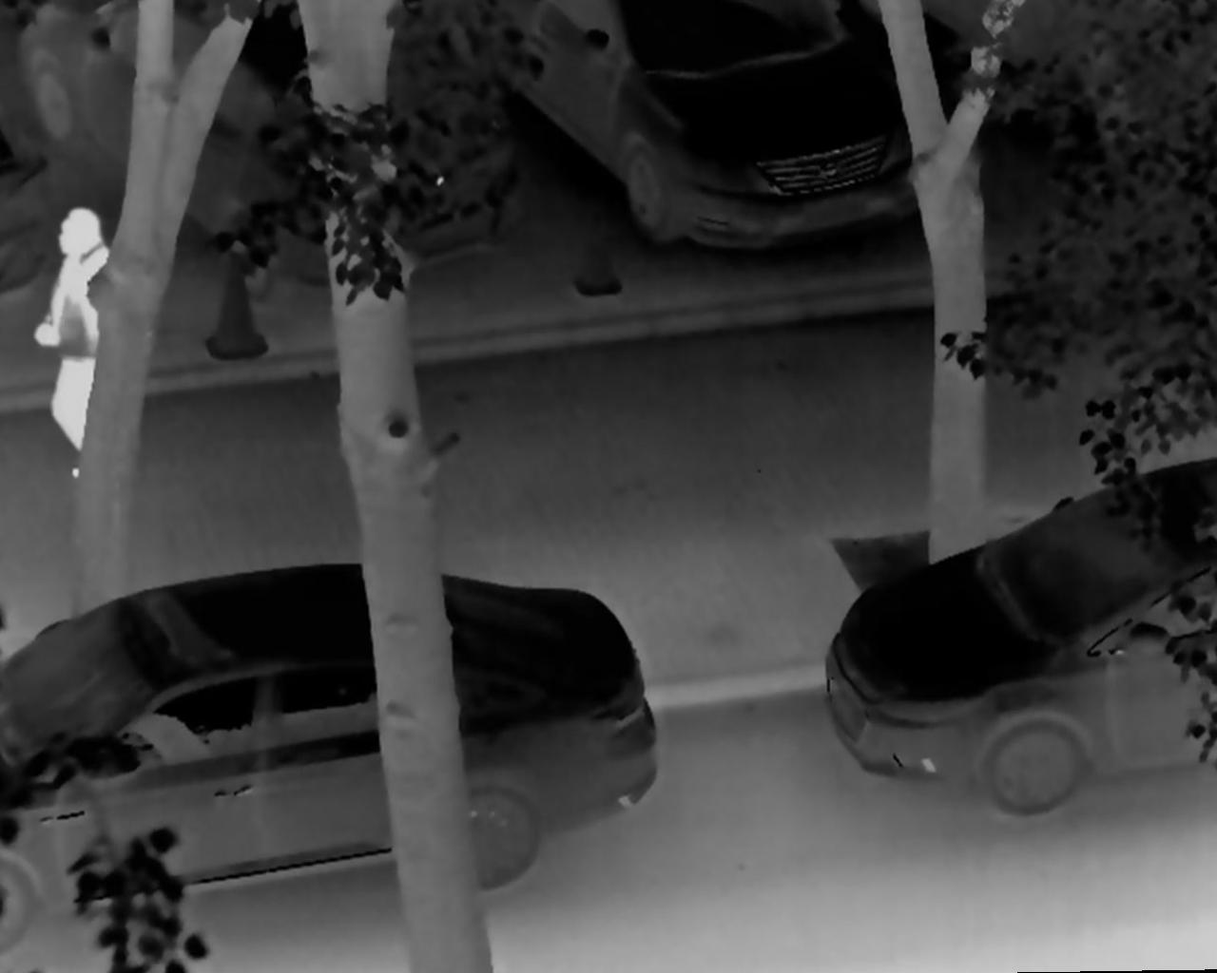person: (27, 201, 116, 486)
